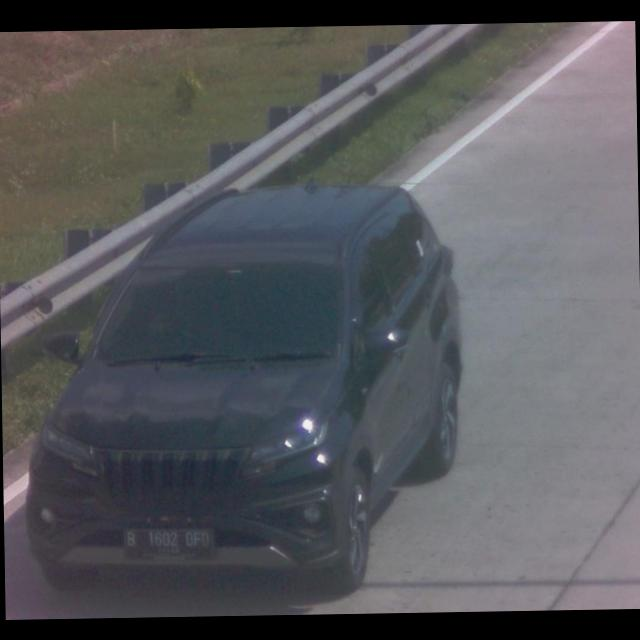plate: (119, 525, 214, 563)
